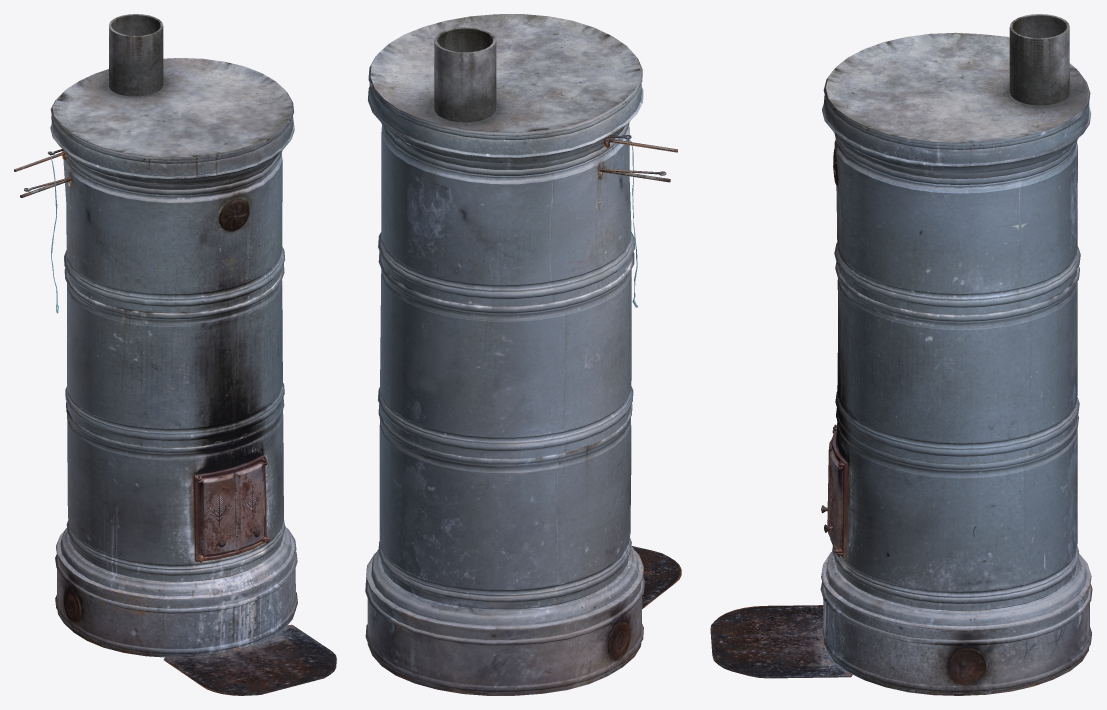
File: scandinavian_masonry_heater.glb
3 renders of one model, left to right at view 1: azimuth 30°, elevation 25°; view 2: azimuth 150°, elevation 25°; view 3: azimuth 270°, elevation 25°, orthographic. The views are drawn at different scales.
Parts seen in each view (by area): view 1: scandinavian_masonry_heater; view 2: scandinavian_masonry_heater; view 3: scandinavian_masonry_heater.
Part boxes in pixels (x1=…): scandinavian_masonry_heater: x1=14, y1=14, x2=336, y2=695; scandinavian_masonry_heater: x1=365, y1=14, x2=681, y2=695; scandinavian_masonry_heater: x1=710, y1=14, x2=1092, y2=695.
Size of the model in its own units: 1.17 by 2.36 by 1.34.
Materials: 1 (1 with a texture image).
